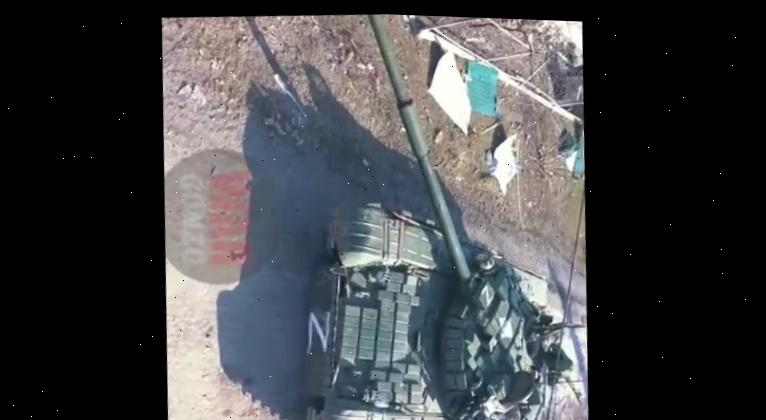tank: (279, 11, 598, 420)
